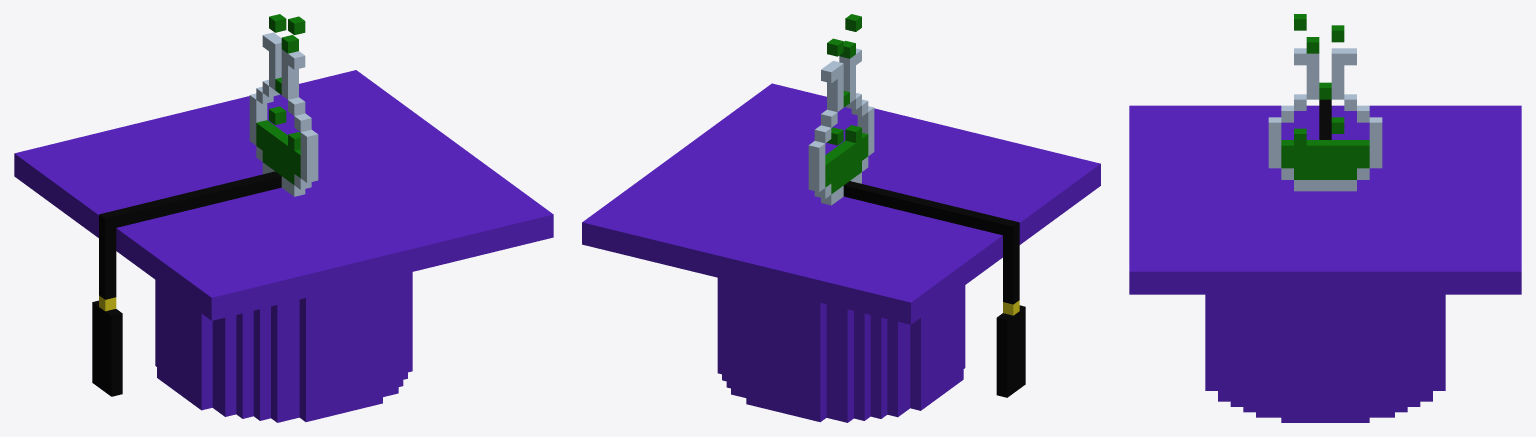
The model's file is Poison.obj.
3 renders of one model, left to right at view 1: azimuth 30°, elevation 25°; view 2: azimuth 150°, elevation 25°; view 3: azimuth 270°, elevation 25°, orthographic. The views are drawn at different scales.
Size of the model in its own units: 3.2 by 3.1 by 3.1.
1 material, 1 textured.
